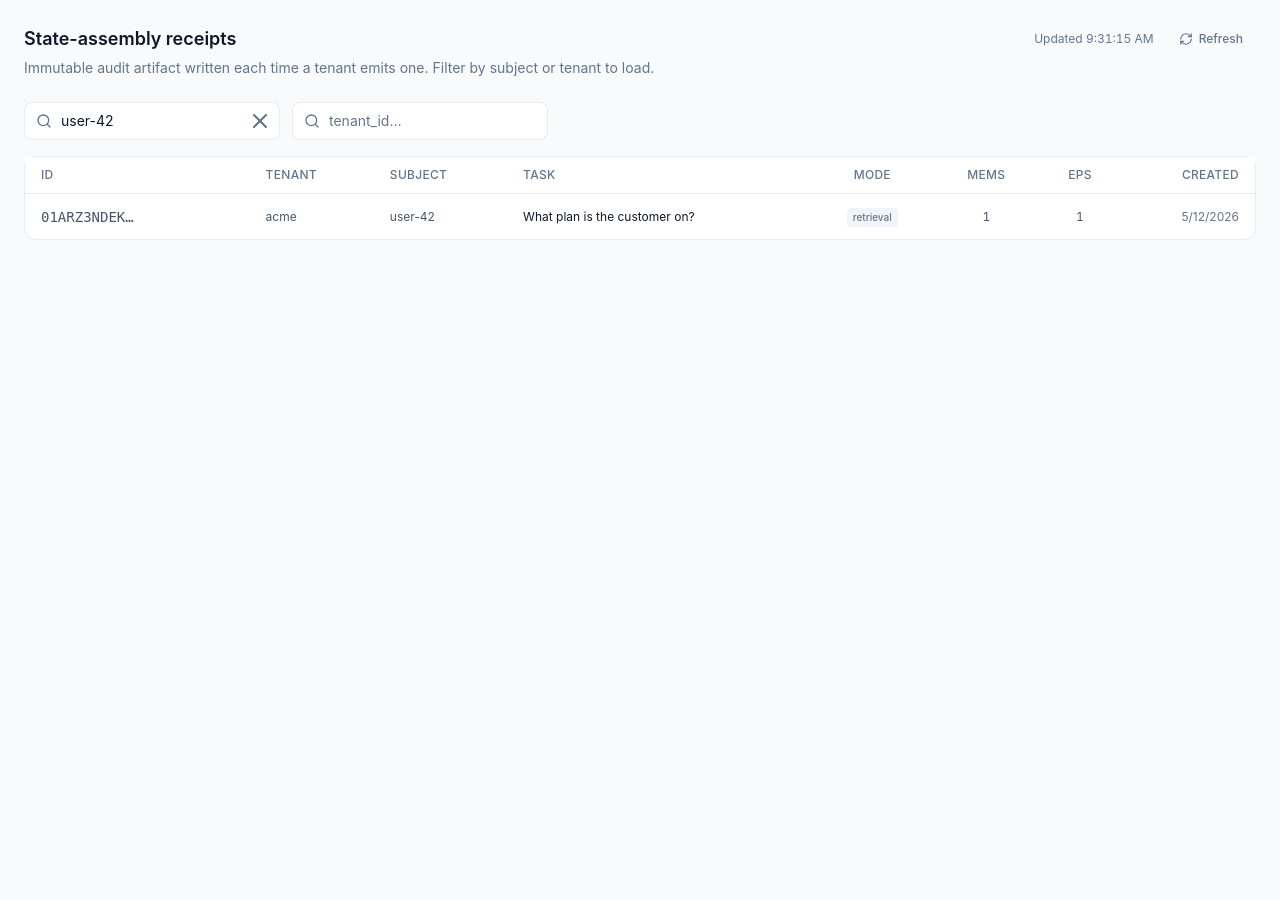
Test: ReceiptsPage › opens the detail modal with the receipt body on row click
Click the text "What plan is the customer on": {"x": 640, "y": 216} [25,194,1255,239]
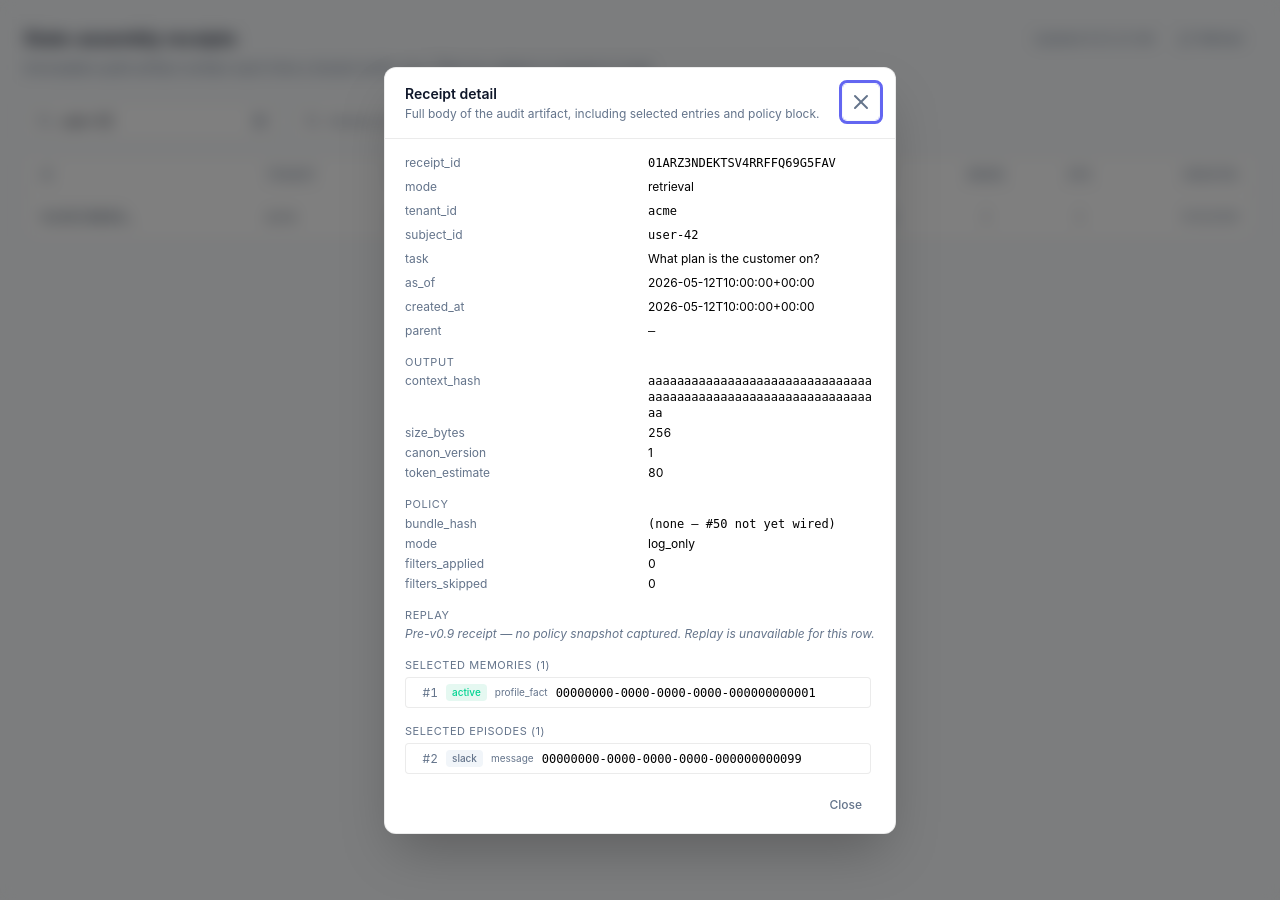
Expected: the heading "Selected memories (1)" is shown, [405,658,550,672]
Expected: the heading "Selected episodes (1)" is shown, [405,724,545,738]
Expected: the text "log_only" is shown, [648,536,695,551]
